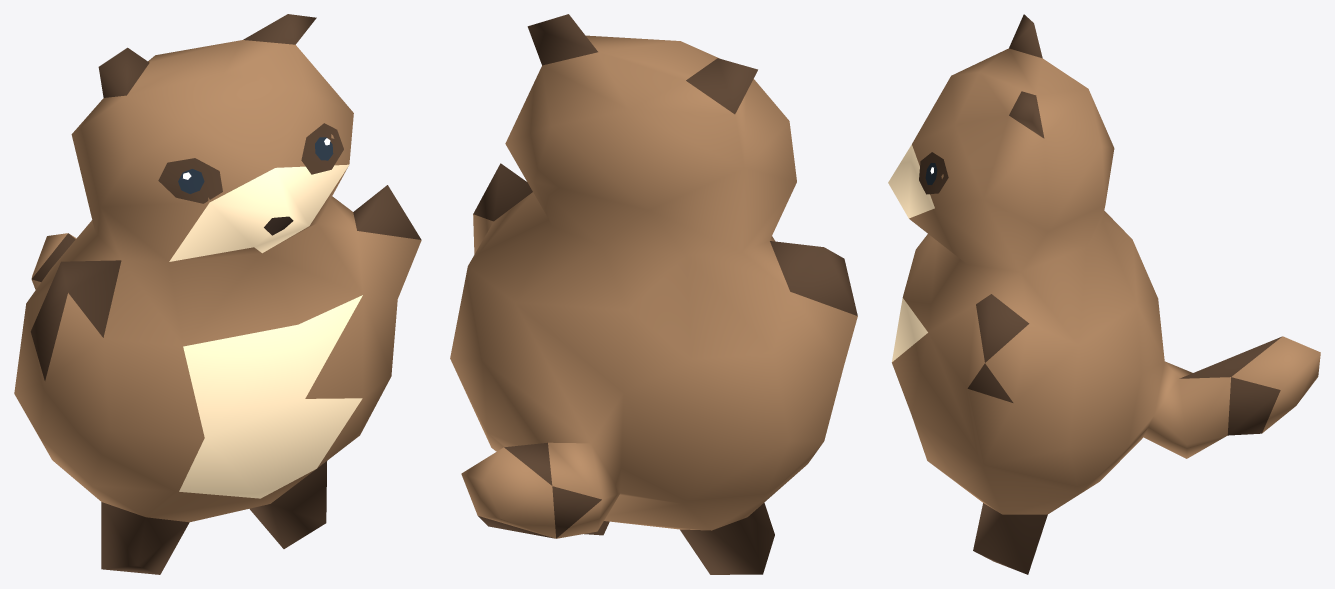
Rendered from tanuki.glb.
3 views of the same model, side by side, from view 1: azimuth 30°, elevation 25°; view 2: azimuth 150°, elevation 25°; view 3: azimuth 270°, elevation 25° (orthographic). The views are drawn at different scales.
Parts seen in each view (by area): view 1: tanuki; view 2: tanuki; view 3: tanuki.
Part boxes in pixels (bbox=[...]): tanuki: bbox=[14, 14, 421, 574]; tanuki: bbox=[450, 14, 857, 574]; tanuki: bbox=[888, 14, 1320, 574].
Size of the model in its own units: 0.638 by 0.83 by 0.677.
